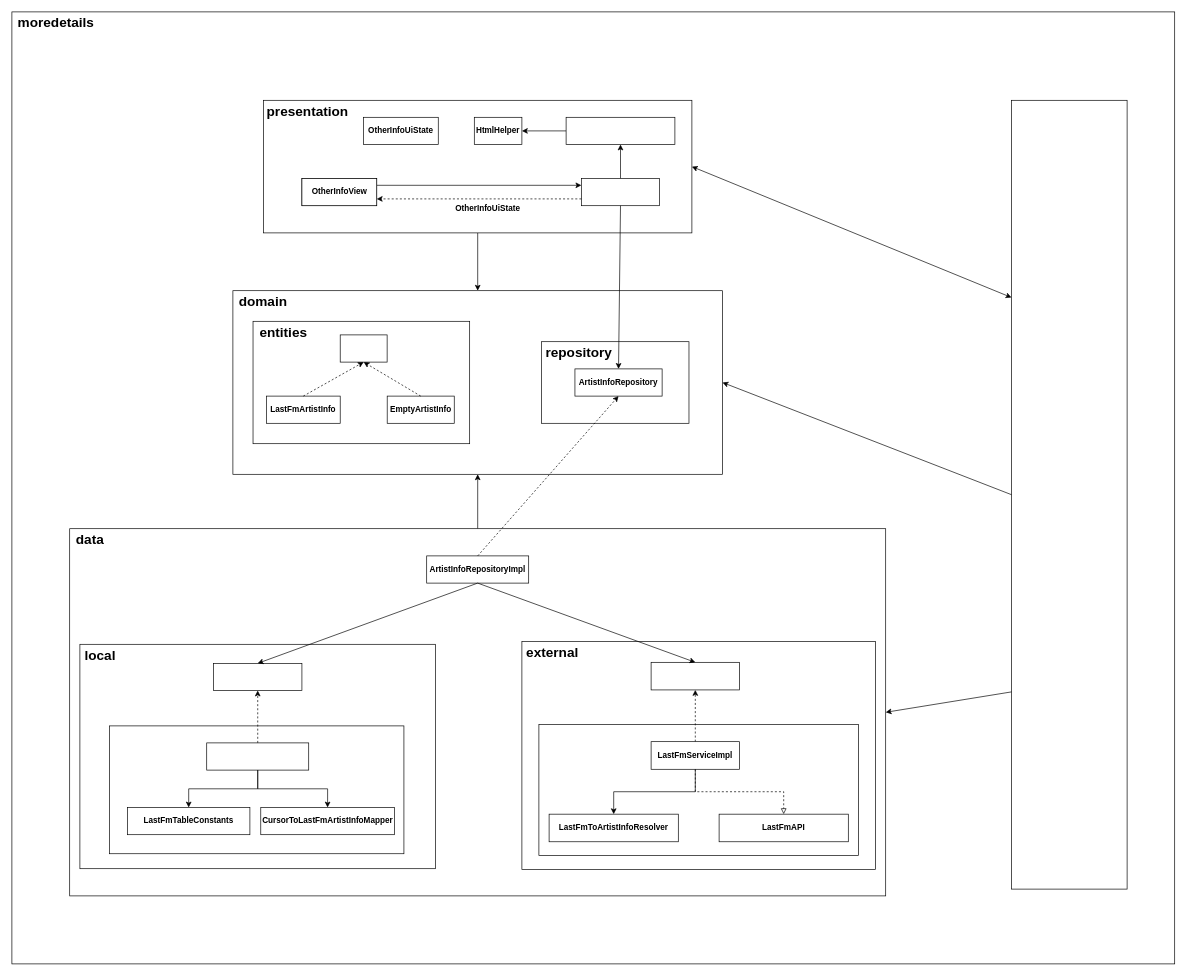
This 1187x976 diagram has some shape labels left out. The shapes that lost their labels are listed below. From the top down, each one's centre as x and y in pixels, then its label:
the point at 620,130: ArtistInfoTextHelper
the point at 620,192: OtherInfoPresenter
the point at 363,348: ArtistInfo
the point at 1069,494: MoreDetailsInjector
the point at 257,677: LastFmLocalStorage
the point at 695,676: LastFmService
the point at 257,756: LastFmLocalStorageImpl
